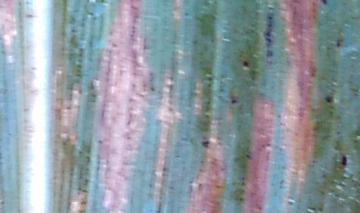tarspot: (263, 12, 274, 47), (146, 71, 156, 94), (333, 36, 344, 51), (339, 152, 349, 168), (323, 93, 335, 105), (199, 137, 209, 149), (264, 49, 276, 59), (277, 178, 285, 192), (229, 96, 239, 106), (23, 12, 36, 19), (242, 151, 252, 160), (241, 59, 249, 68), (96, 137, 104, 146), (182, 10, 191, 18), (305, 206, 317, 212), (318, 1, 328, 6)
